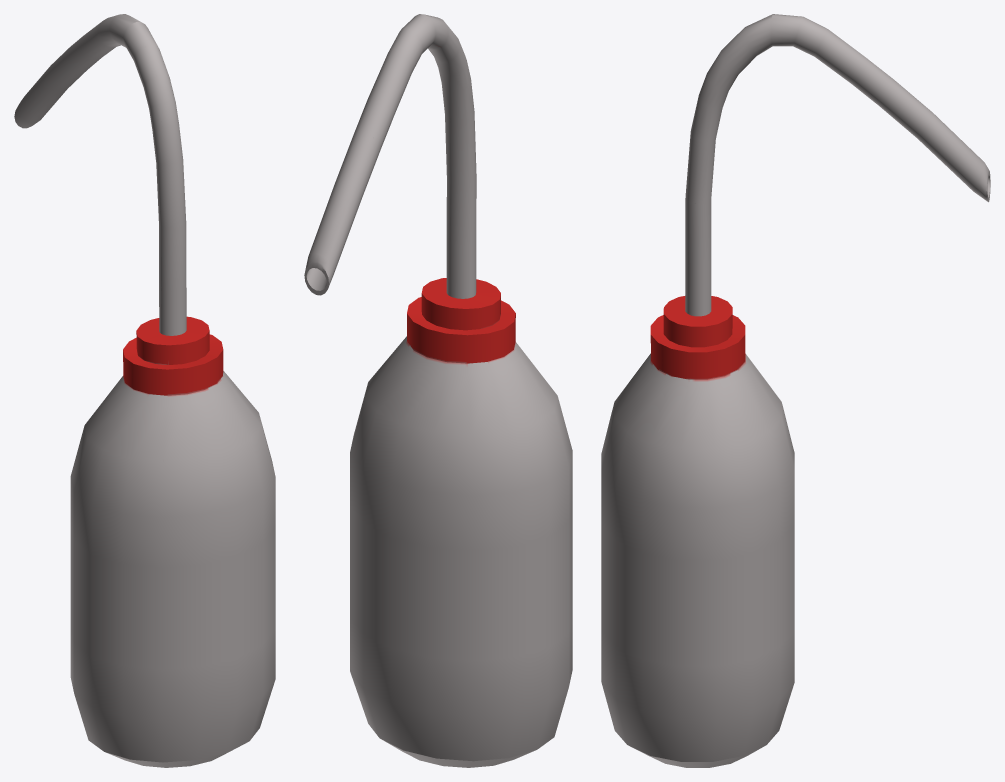
The model's file is Lab_Tools_.Bottle_02.fbx.
The picture shows the model from 3 angles, left to right: view 1: azimuth 30°, elevation 25°; view 2: azimuth 150°, elevation 25°; view 3: azimuth 270°, elevation 25°; orthographic projection. The views are drawn at different scales.
Visible parts, largest first — view 1: Lab_Bottle_02; view 2: Lab_Bottle_02; view 3: Lab_Bottle_02.
Part boxes in pixels (bbox=[...]): Lab_Bottle_02: bbox=[14, 14, 275, 767]; Lab_Bottle_02: bbox=[304, 14, 572, 767]; Lab_Bottle_02: bbox=[601, 14, 990, 767].
Size of the model in its own units: 0.1 by 0.37 by 0.18.
